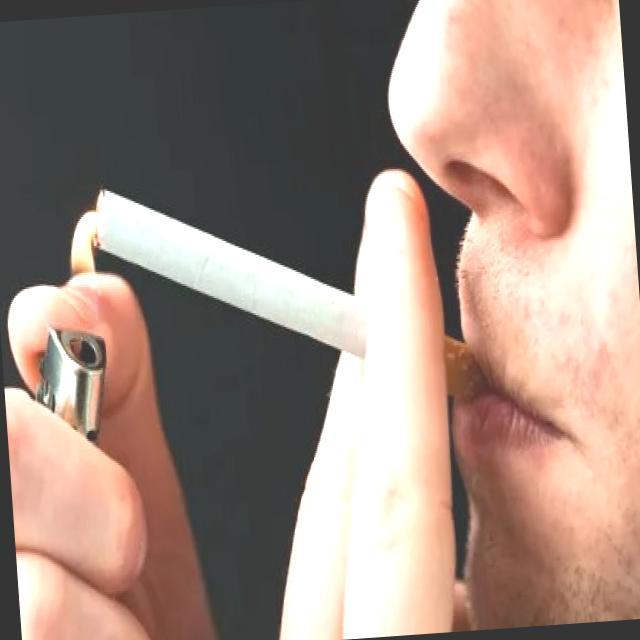cigarette: (84, 158, 486, 440)
